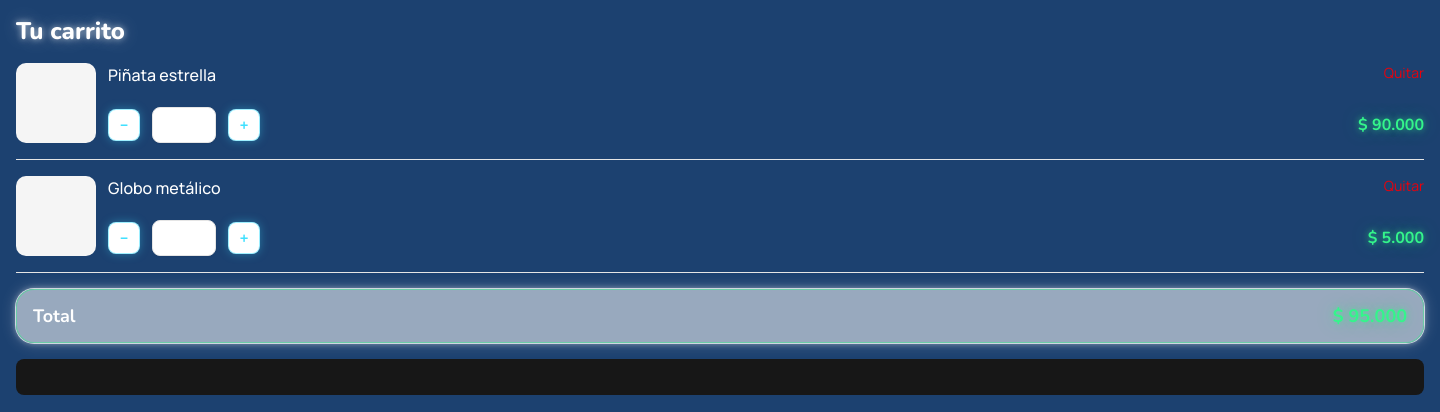
it: CarritoPage › lists items with quantity controls and a total, and lets you remove one
Expected: the text "Piñata estrella" is shown, left=108, top=63, right=216, bottom=87
Expected: the text "Globo metálico" is shown, left=108, top=176, right=220, bottom=200
What coordinates should you click on to do the following:
click the button "Quitar" in the row of "Globo metálico"
I would click on:
 (1404, 186)
Its box is left=1384, top=176, right=1424, bottom=196.
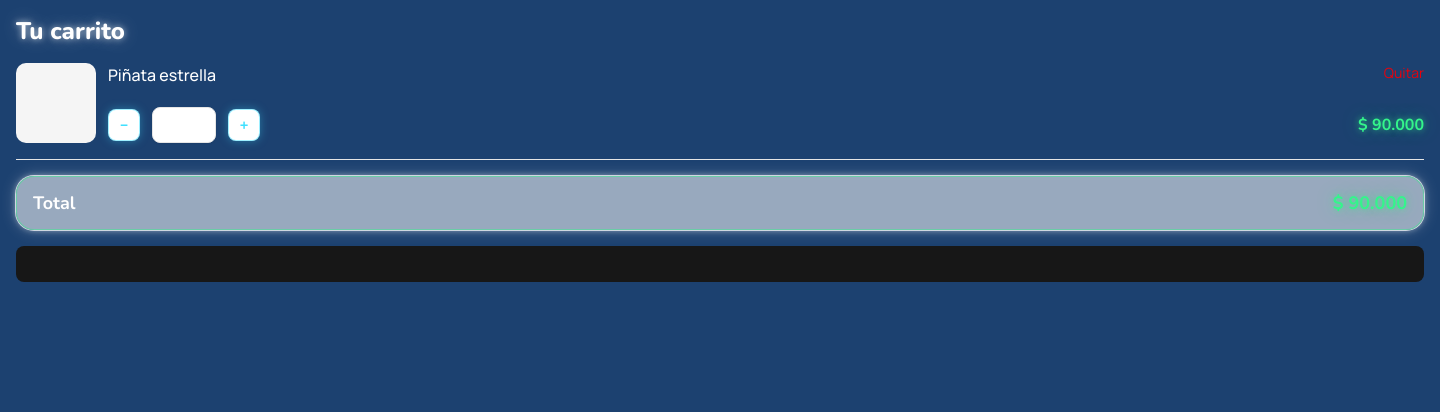
Expected: the text "Globo metálico" is gone
Expected: the text with test id "cart-total" reads "$ 90.000", left=1333, top=191, right=1407, bottom=215
